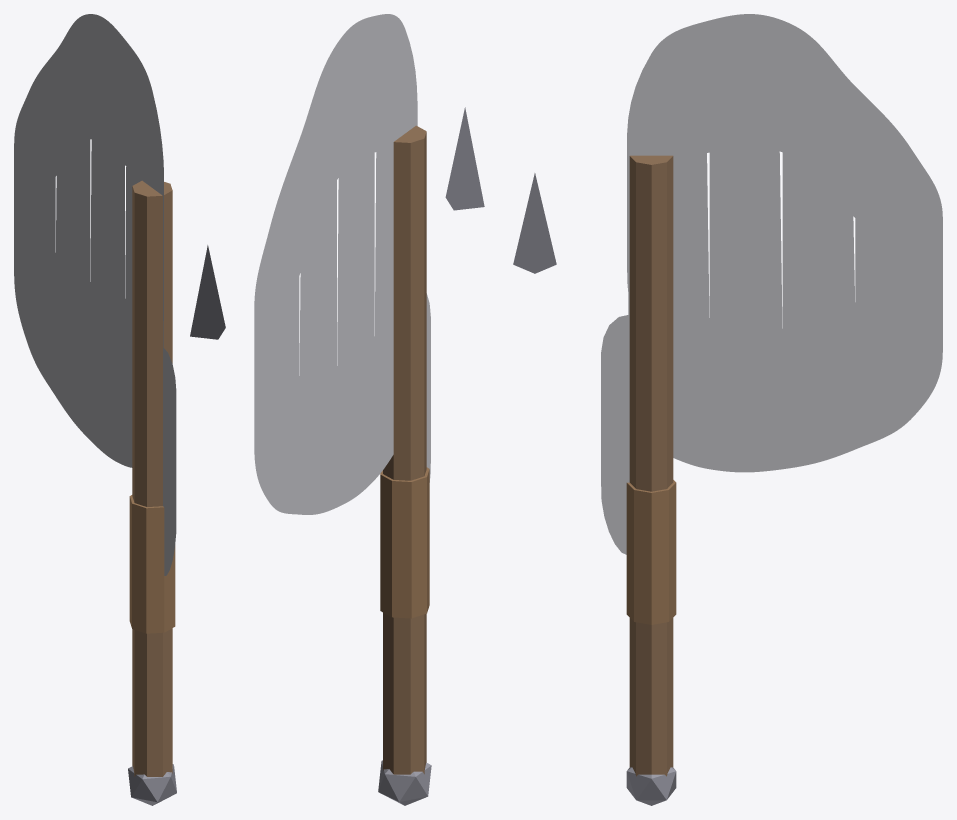
File: wpn_war_axe.glb
The picture shows the model from 3 angles, left to right: view 1: azimuth 30°, elevation 25°; view 2: azimuth 150°, elevation 25°; view 3: azimuth 270°, elevation 25°; orthographic projection. The views are drawn at different scales.
Parts seen in each view (by area): view 1: Weapon_WarAxe; view 2: Weapon_WarAxe; view 3: Weapon_WarAxe.
Part boxes in pixels (box(x1,y1,x2,y2)): Weapon_WarAxe: box(14, 14, 225, 805); Weapon_WarAxe: box(254, 14, 484, 805); Weapon_WarAxe: box(513, 14, 942, 805).
Bounding box in the file's own units: 0.0716 × 1.2 × 0.59.
